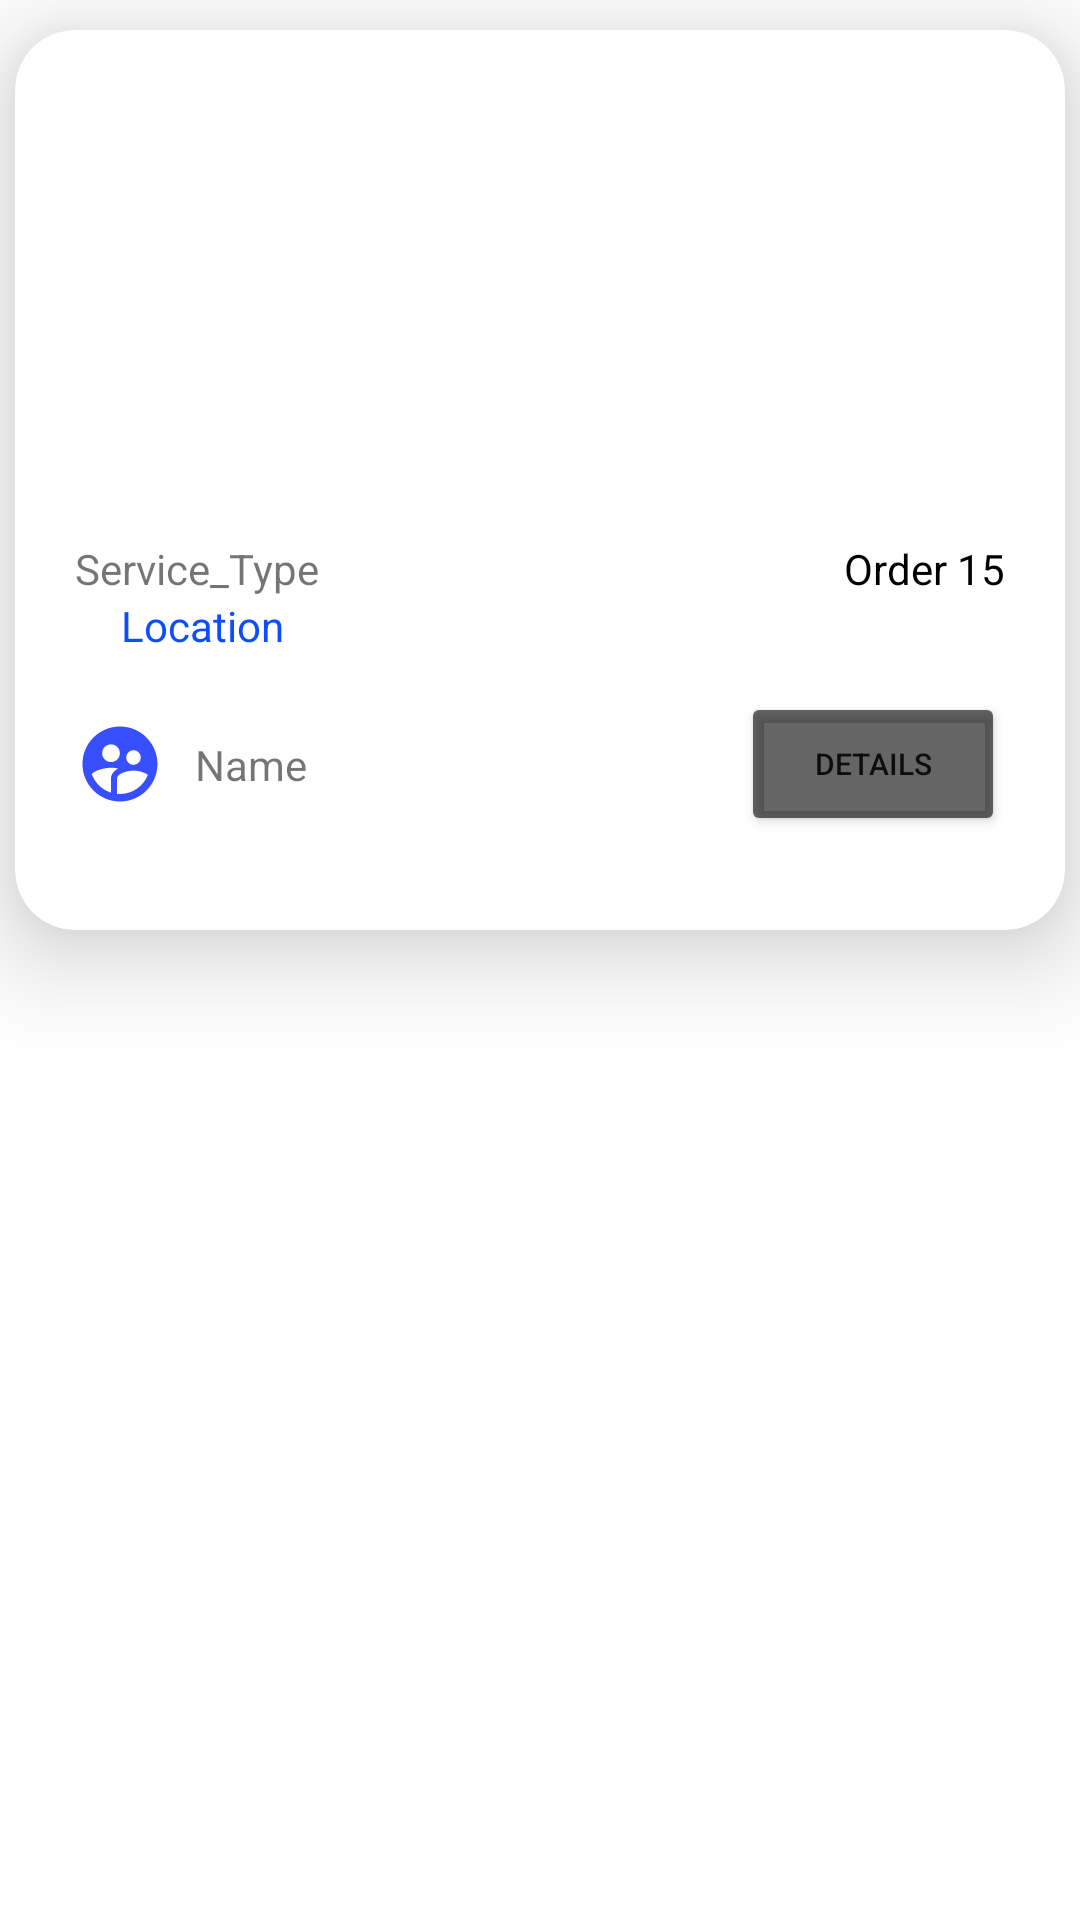

Point at icon controls on the screen. Image size 1080*1920, points as point (x, y).
user circle: point (120, 764)
